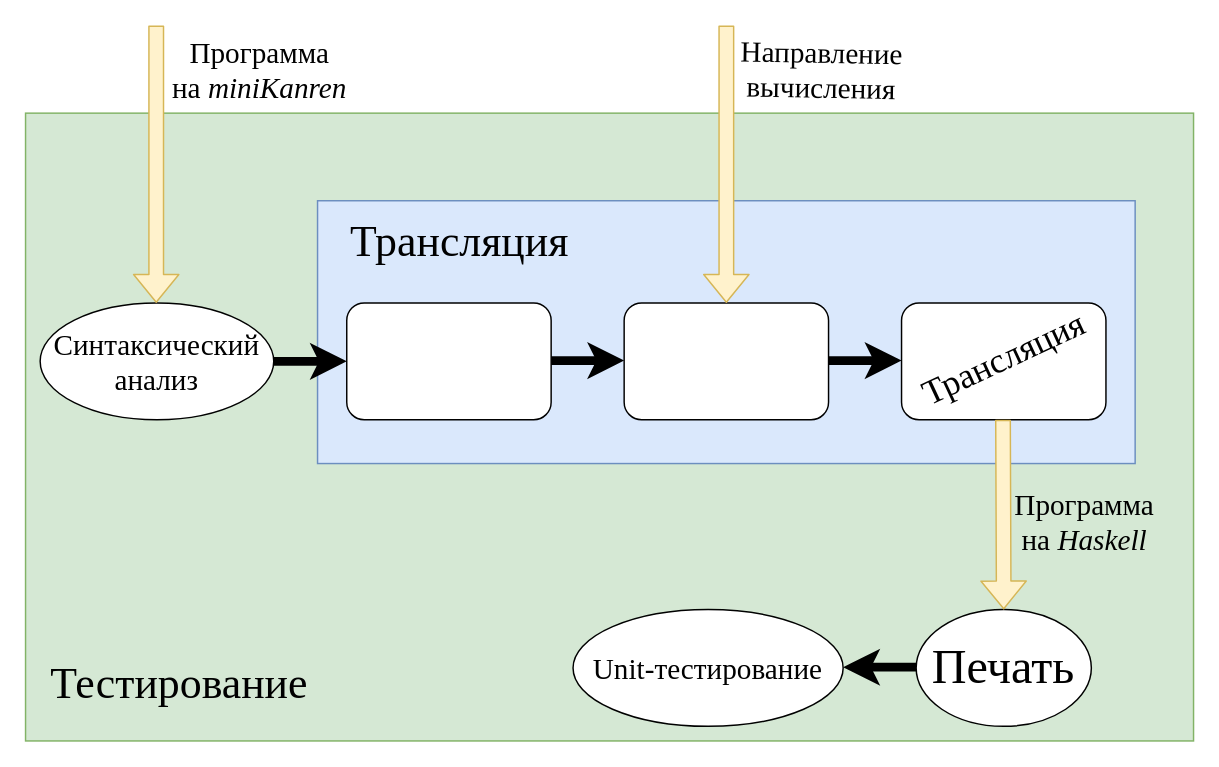
Image size: 1219x767. Some labels were removed from this diagram. Each missing label, with the centre of its shape:
Аннотирование: point 726,360
Нормализация: point 448,360
